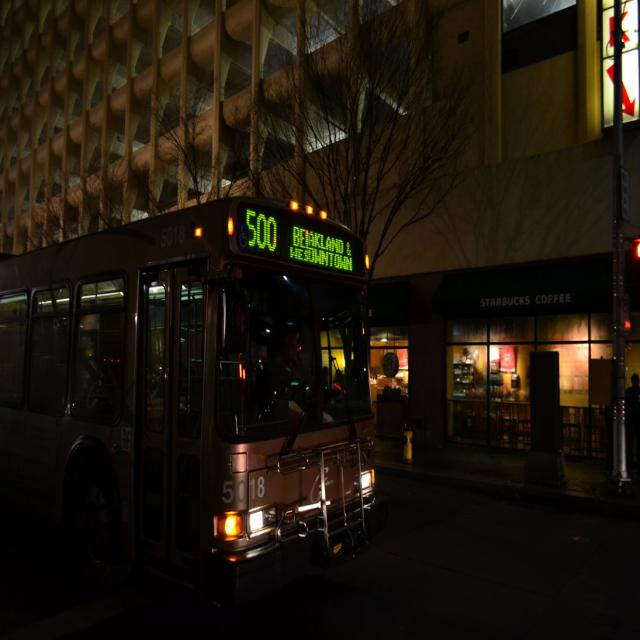Bus: (0, 184, 386, 589)
